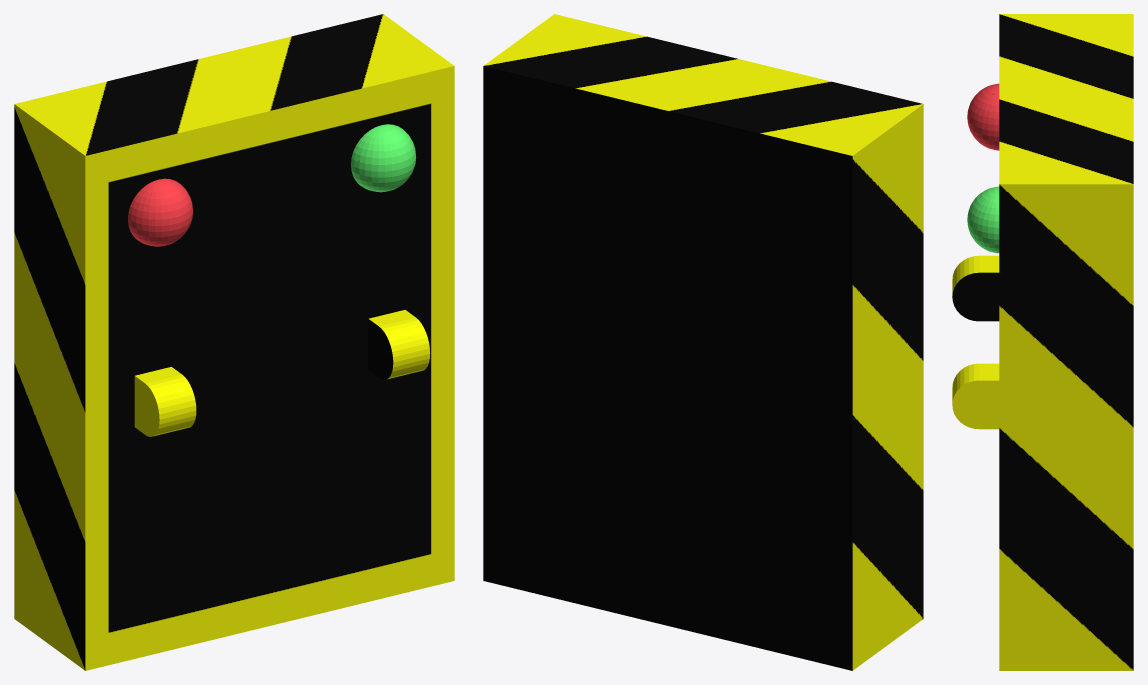
Rendered from switchbox.fbx.
3 renders of one model, left to right at view 1: azimuth 30°, elevation 25°; view 2: azimuth 150°, elevation 25°; view 3: azimuth 270°, elevation 25°, orthographic. The views are drawn at different scales.
Parts seen in each view (by area): view 1: SwitchBox; view 2: SwitchBox; view 3: SwitchBox.
Boxes of the visible parts, x1,y1,x2,y2 form: SwitchBox: [14, 14, 454, 670]; SwitchBox: [483, 14, 923, 670]; SwitchBox: [952, 14, 1133, 670].
Bounding box in the file's own units: 1.5 × 2 × 0.675.
